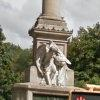Statue: (27, 35, 82, 92)
